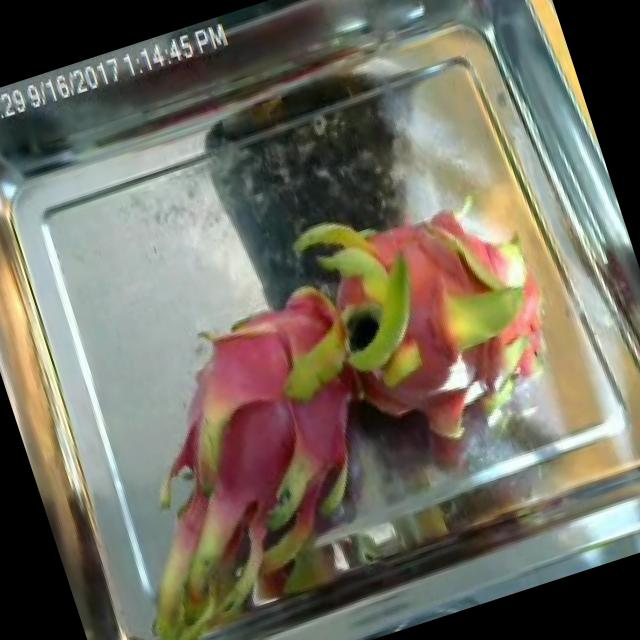Fruit: (440, 308, 544, 414)
